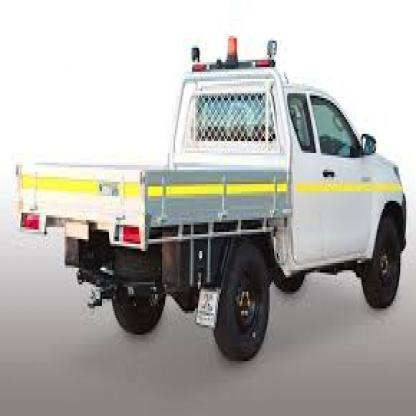light_vehicle: (11, 26, 410, 371)
